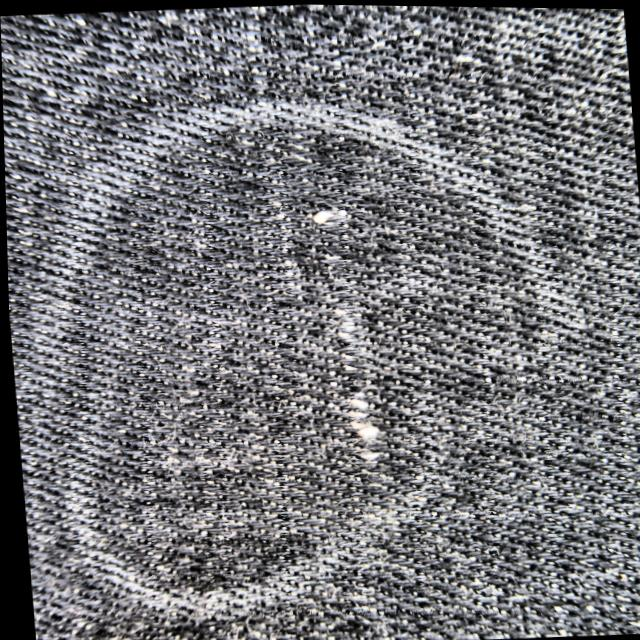Hole: (301, 258, 382, 363), (325, 373, 395, 461), (279, 189, 375, 244)
